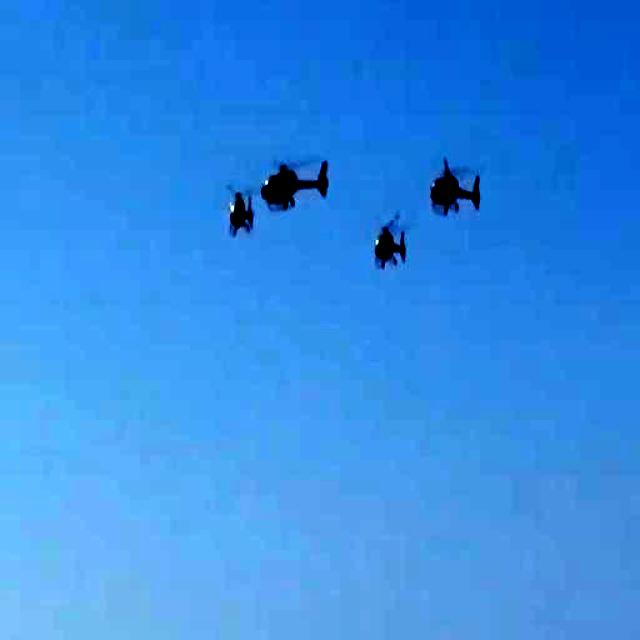drone: (410, 140, 508, 231), (254, 134, 336, 215), (366, 211, 418, 289), (214, 184, 254, 241)
